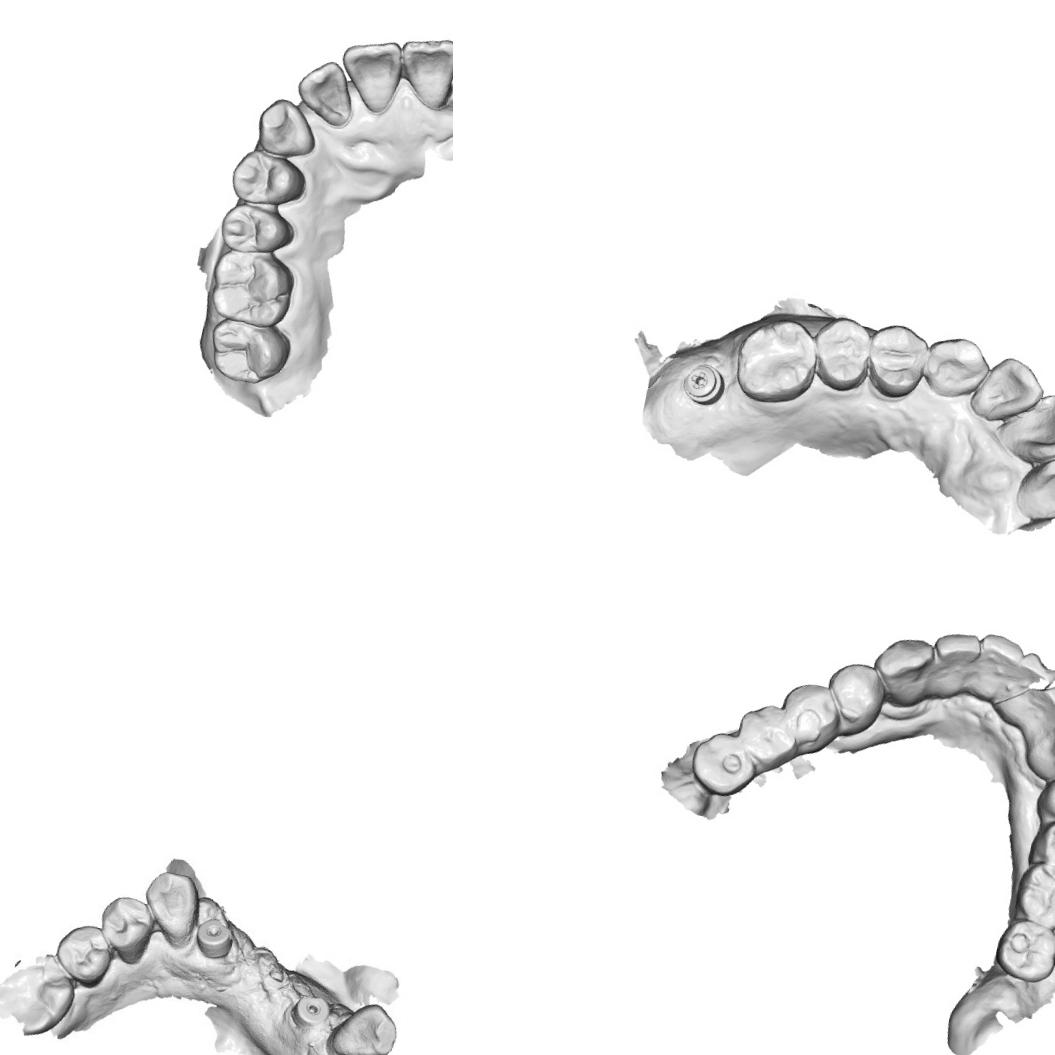canine: (137, 860, 203, 950), (918, 328, 994, 406), (866, 630, 938, 711), (251, 94, 324, 164), (325, 995, 406, 1055), (1022, 714, 1055, 788)
implant: (190, 909, 242, 965), (290, 990, 330, 1032)
implant_plus: (675, 356, 732, 408)
incisor: (964, 350, 1050, 432), (331, 31, 409, 118), (985, 379, 1055, 470), (289, 55, 362, 130), (389, 30, 453, 114), (1007, 445, 1055, 533), (927, 627, 987, 688), (970, 630, 1028, 690), (1008, 648, 1055, 706), (1021, 677, 1055, 730)
molar: (728, 310, 824, 412), (204, 243, 300, 333), (0, 945, 75, 1045), (202, 314, 295, 392), (683, 724, 765, 802), (729, 697, 807, 776), (990, 916, 1055, 988), (1009, 857, 1055, 930)
premolar: (770, 674, 848, 760), (858, 318, 934, 406), (816, 656, 890, 745), (804, 312, 878, 397), (227, 144, 312, 213), (216, 198, 298, 262), (95, 892, 158, 971), (53, 921, 115, 985), (1027, 812, 1055, 873), (1033, 764, 1055, 830)
